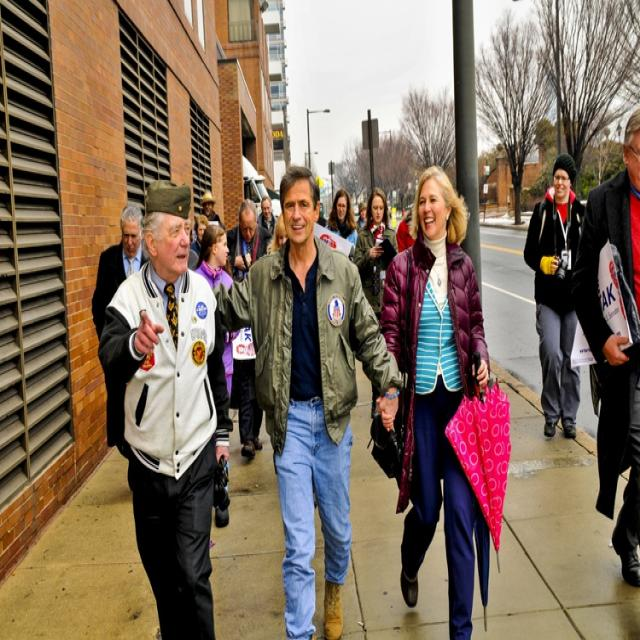body: (212, 166, 403, 640), (93, 174, 237, 638), (365, 162, 495, 640), (567, 104, 639, 594), (519, 152, 590, 442), (91, 202, 150, 459), (392, 188, 451, 420), (223, 197, 274, 460), (352, 182, 400, 422), (189, 222, 239, 414), (323, 186, 359, 248), (256, 194, 280, 237), (188, 212, 210, 257), (199, 189, 221, 224), (355, 199, 369, 234)
